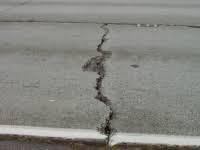damage: (83, 23, 115, 146)
